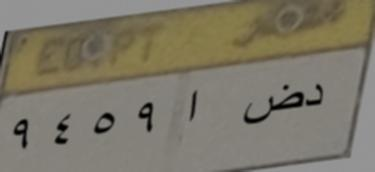4: (52, 109, 77, 153)
5: (87, 108, 116, 144)
9: (4, 112, 36, 156), (132, 94, 159, 138)
alif: (182, 85, 203, 129)
daad: (238, 86, 304, 126)
daal: (305, 76, 326, 116)
